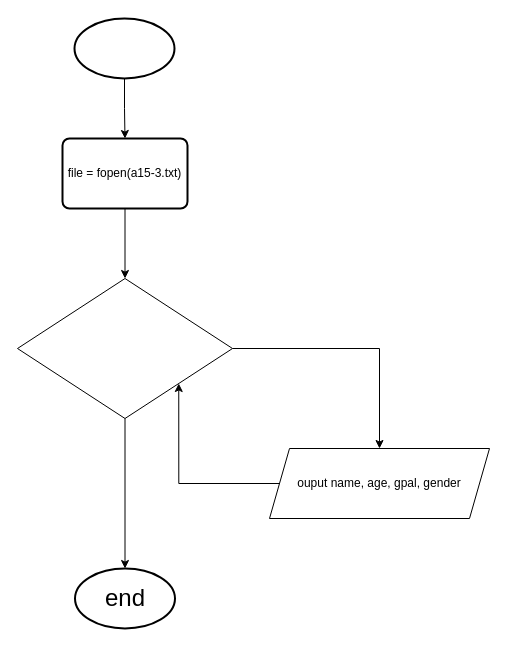
The diagram is 507 pixels wide and 646 high, and some of its shapes have lost their labels. Here are the shapes that lost their labels. From the top down, the box of each, then its label:
(73, 17, 175, 79): start
(16, 278, 232, 418): while(name, age, gpa, gender = fscanf(file))
